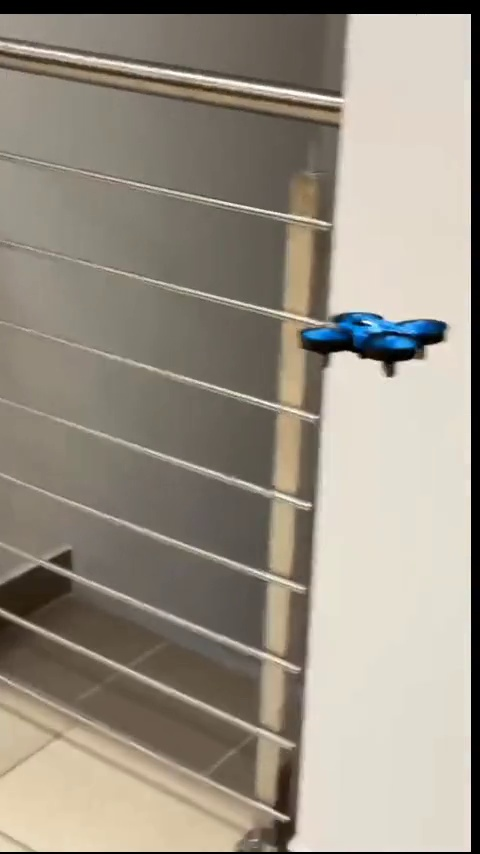drone: (298, 313, 443, 378)
